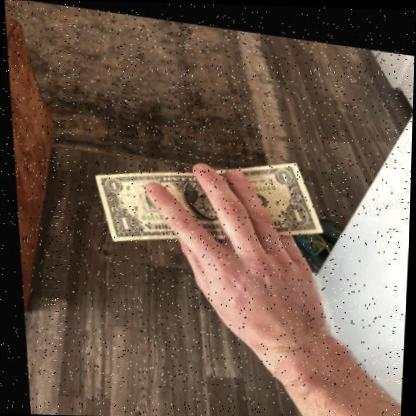one-front: (90, 155, 322, 240)
